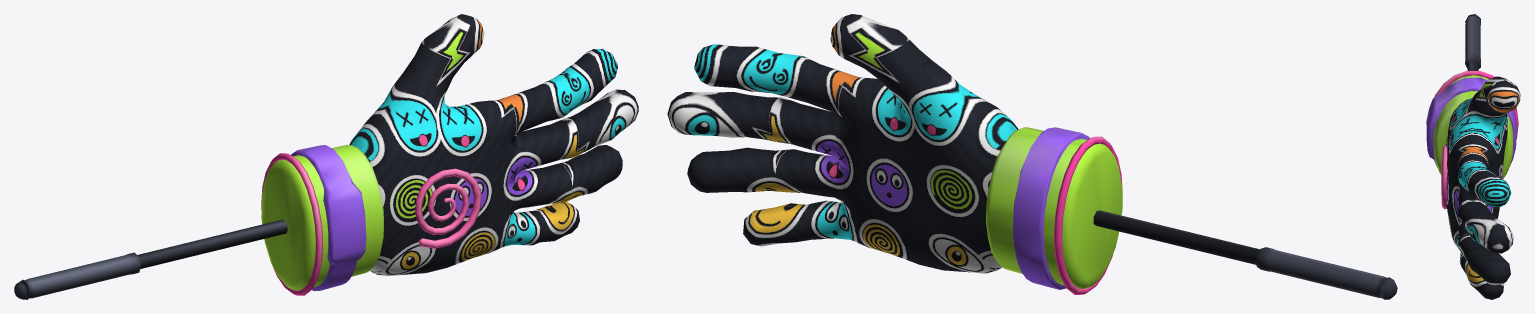
The model's file is glove_brainrot.glb.
3 views of the same model, side by side, from view 1: azimuth 30°, elevation 25°; view 2: azimuth 150°, elevation 25°; view 3: azimuth 270°, elevation 25° (orthographic). The views are drawn at different scales.
Parts seen in each view (by area): view 1: Glove, Stick, Glow; view 2: Glove, Stick, Glow; view 3: Glove, Stick, Glow.
Part boxes in pixels (x1,y1,x2,y2): Glove: (261,14,638,291); Stick: (14,219,287,299); Glow: (261,153,481,295); Glove: (667,14,1122,289); Stick: (1093,210,1397,299); Glow: (1054,136,1122,294); Glove: (1426,75,1520,299); Stick: (1465,14,1480,70); Glow: (1434,71,1518,209).
Size of the model in its own units: 1.17 by 0.4102 by 0.1922.
4 materials, 1 textured.
